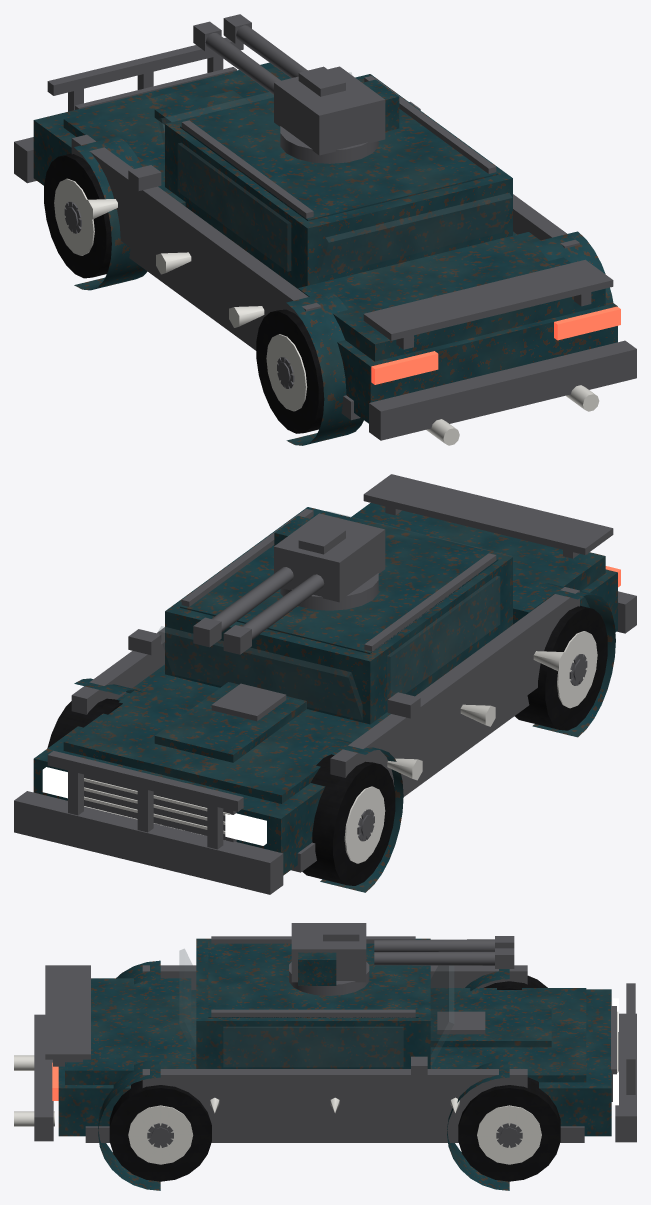
The model's file is player_muscle.glb.
3 views of the same model, one above another, from view 1: azimuth 30°, elevation 25°; view 2: azimuth 150°, elevation 25°; view 3: azimuth 270°, elevation 25° (orthographic). The views are drawn at different scales.
Parts seen in each view (by area): view 1: breakline_interceptor_Body, Turret, Hood, Wheel_RL, Wheel_FL, Barrel; view 2: breakline_interceptor_Body, Hood, Wheel_FL, Turret, Wheel_RL, Barrel, Wheel_FR; view 3: breakline_interceptor_Body, Hood, Wheel_FR, Wheel_RR, Turret, Barrel, Wheel_FL.
Boxes of the visible parts, bbox=[...] form: breakline_interceptor_Body: bbox=[14, 37, 636, 445]; Turret: bbox=[274, 66, 399, 163]; Hood: bbox=[63, 67, 290, 206]; Wheel_RL: bbox=[256, 309, 324, 433]; Wheel_FL: bbox=[44, 153, 111, 278]; Barrel: bbox=[193, 14, 307, 94]; breakline_interceptor_Body: bbox=[14, 474, 636, 894]; Hood: bbox=[63, 668, 390, 803]; Wheel_FL: bbox=[302, 754, 395, 885]; Turret: bbox=[274, 513, 385, 610]; Wheel_RL: bbox=[514, 605, 607, 730]; Barrel: bbox=[193, 567, 324, 654]; Wheel_FR: bbox=[47, 698, 122, 748]; breakline_interceptor_Body: bbox=[14, 936, 636, 1190]; Hood: bbox=[430, 988, 586, 1082]; Wheel_FR: bbox=[458, 1077, 560, 1181]; Wheel_RR: bbox=[109, 1080, 211, 1181]; Turret: bbox=[289, 923, 369, 995]; Barrel: bbox=[374, 936, 514, 968]; Wheel_FL: bbox=[484, 975, 547, 989].
Size of the model in its own units: 3.17 by 2.27 by 6.32.
7 materials, 2 textured.
